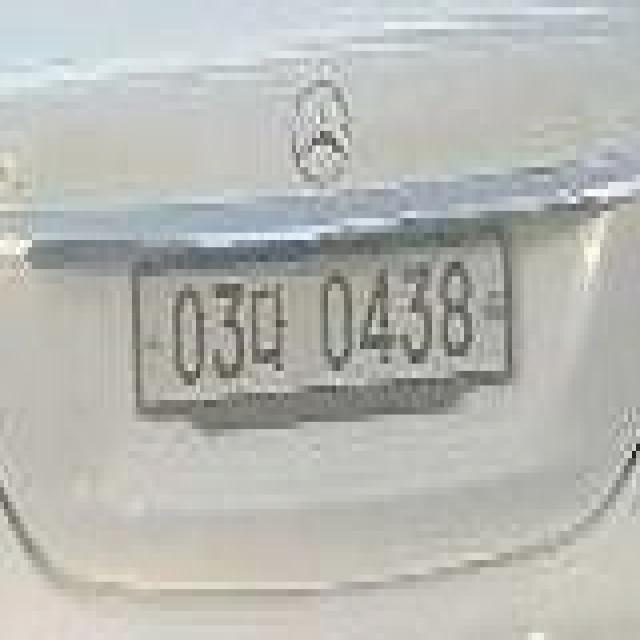illegal_plate: (126, 219, 520, 433)
